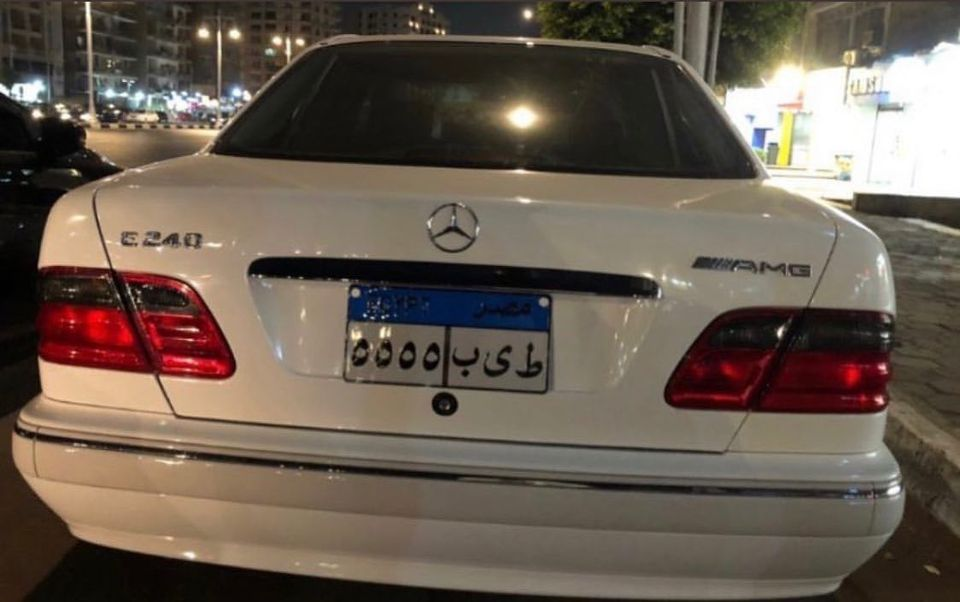carpl: (343, 319, 551, 391)
